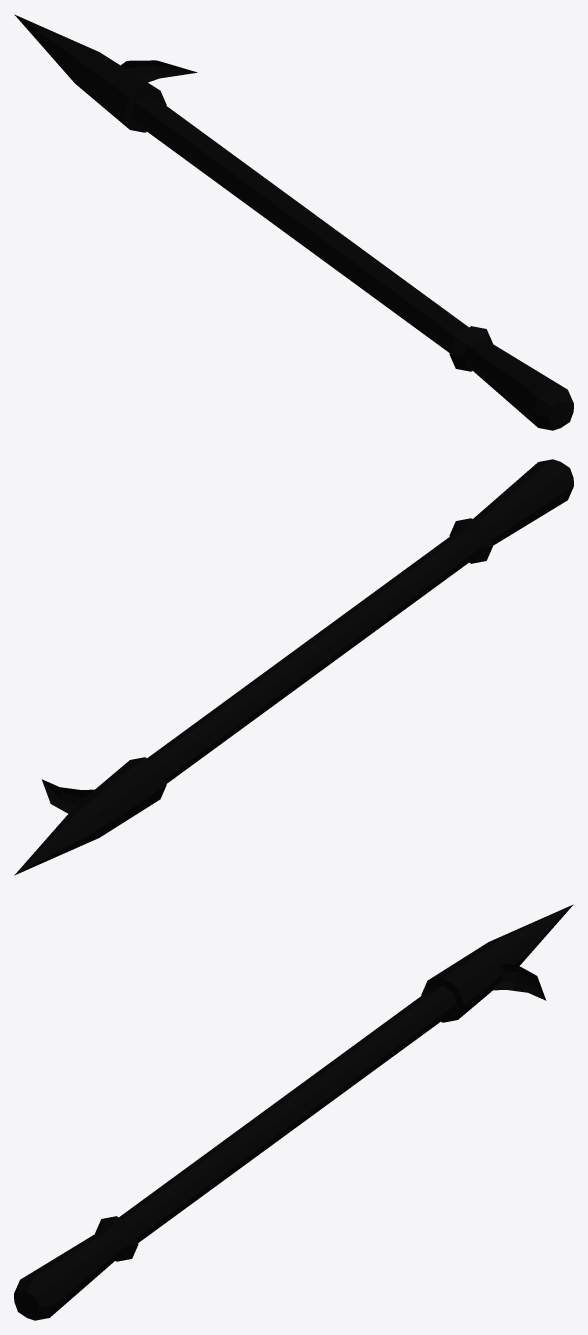
Rendered from Poker.glb.
3 views of the same model, one above another, from view 1: azimuth 30°, elevation 25°; view 2: azimuth 150°, elevation 25°; view 3: azimuth 330°, elevation 25° (orthographic).
Parts seen in each view (by area): view 1: Poker; view 2: Poker; view 3: Poker.
Part boxes in pixels (box(x1,y1,x2,y2)): Poker: box(14, 14, 573, 430); Poker: box(14, 459, 573, 875); Poker: box(14, 904, 573, 1320).
Bounding box in the file's own units: 0.1998 × 0.0871 × 1.89.
1 material, 1 textured.
